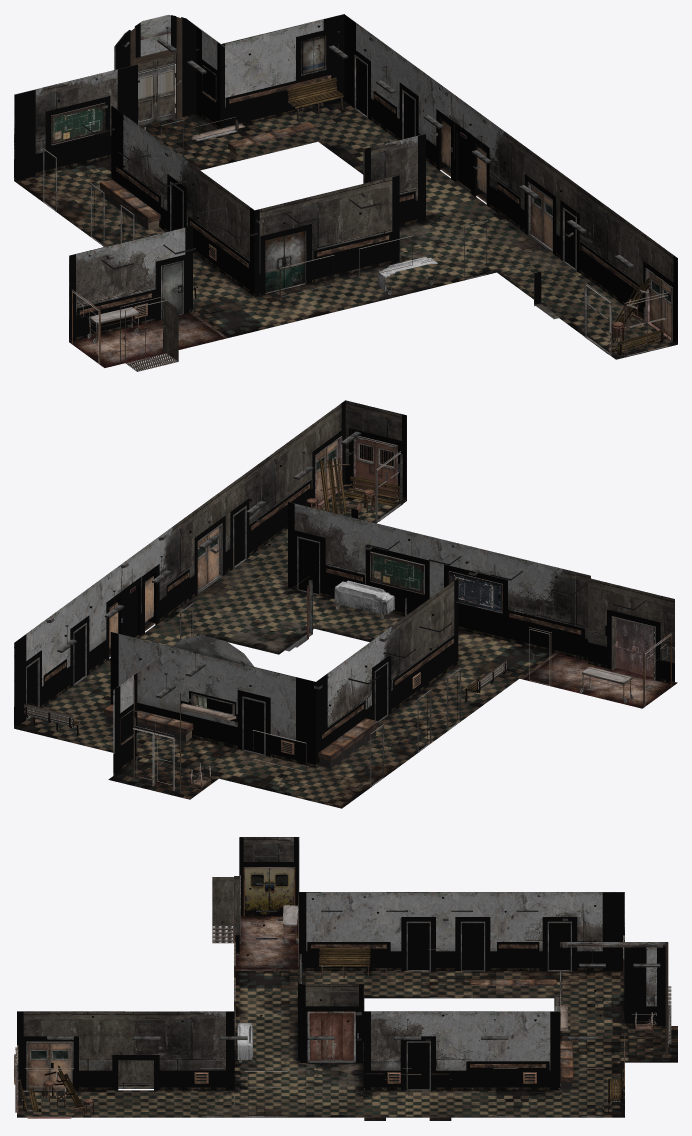
File: horror_corridor_5.glb
3 views of the same model, one above another, from view 1: azimuth 30°, elevation 25°; view 2: azimuth 150°, elevation 25°; view 3: azimuth 270°, elevation 25° (orthographic). The views are drawn at different scales.
Visible parts, largest first — view 1: BackSide_0, FrontSide_3, FrontSide_0, FrontSide_7, FrontSide_5, FrontSide_6, FrontSide_11, FrontSide_13, FrontSide_12, FrontSide_4, FrontSide_2, FrontSide_1; view 2: BackSide_0, FrontSide_3, FrontSide_0, FrontSide_12, FrontSide_11, FrontSide_6, FrontSide_7, FrontSide_5, FrontSide_13, FrontSide_4, FrontSide_2, FrontSide_1; view 3: BackSide_0, FrontSide_3, FrontSide_0, FrontSide_11, FrontSide_7, FrontSide_5, FrontSide_12, FrontSide_13, FrontSide_6, FrontSide_4, FrontSide_2, FrontSide_1.
Part boxes in pixels (bbox=[...]): BackSide_0: bbox=[14, 14, 677, 343]; FrontSide_3: bbox=[14, 67, 677, 371]; FrontSide_0: bbox=[14, 37, 573, 320]; FrontSide_7: bbox=[88, 169, 558, 307]; FrontSide_5: bbox=[177, 101, 568, 337]; FrontSide_6: bbox=[43, 55, 672, 364]; FrontSide_11: bbox=[72, 14, 415, 363]; FrontSide_13: bbox=[62, 27, 667, 367]; FrontSide_12: bbox=[14, 113, 253, 311]; FrontSide_4: bbox=[161, 35, 670, 355]; FrontSide_2: bbox=[82, 124, 677, 359]; FrontSide_1: bbox=[114, 15, 252, 118]; BackSide_0: bbox=[14, 400, 674, 779]; FrontSide_3: bbox=[14, 400, 674, 805]; FrontSide_0: bbox=[46, 450, 625, 741]; FrontSide_12: bbox=[108, 664, 518, 808]; FrontSide_11: bbox=[14, 591, 671, 790]; FrontSide_6: bbox=[26, 436, 672, 787]; FrontSide_7: bbox=[109, 573, 404, 784]; FrontSide_5: bbox=[14, 560, 554, 768]; FrontSide_13: bbox=[28, 417, 677, 788]; FrontSide_4: bbox=[24, 440, 551, 735]; FrontSide_2: bbox=[251, 486, 645, 684]; FrontSide_1: bbox=[116, 635, 253, 791]; BackSide_0: bbox=[17, 837, 665, 1091]; FrontSide_3: bbox=[15, 837, 667, 1120]; FrontSide_0: bbox=[109, 837, 662, 1070]; FrontSide_11: bbox=[245, 868, 671, 1070]; FrontSide_7: bbox=[234, 998, 603, 1117]; FrontSide_5: bbox=[190, 971, 624, 1117]; FrontSide_12: bbox=[302, 971, 677, 1062]; FrontSide_13: bbox=[14, 894, 660, 1117]; FrontSide_6: bbox=[17, 867, 655, 1118]; FrontSide_4: bbox=[18, 907, 624, 1117]; FrontSide_2: bbox=[17, 855, 538, 1117]; FrontSide_1: bbox=[560, 942, 668, 1055].
Size of the model in its own units: 14.39 by 3.14 by 19.57.
Materials: 16 (16 with a texture image).
